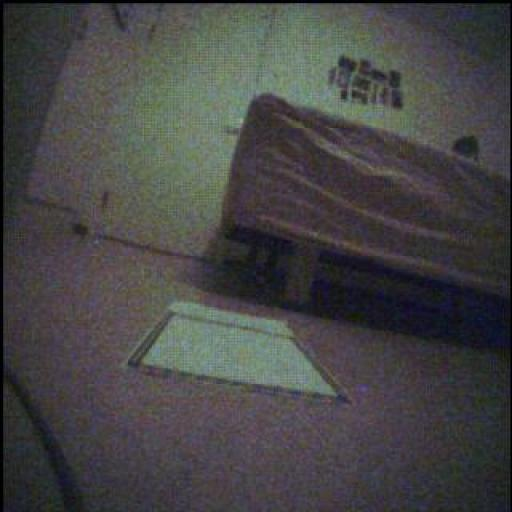pad: (129, 304, 350, 403)
